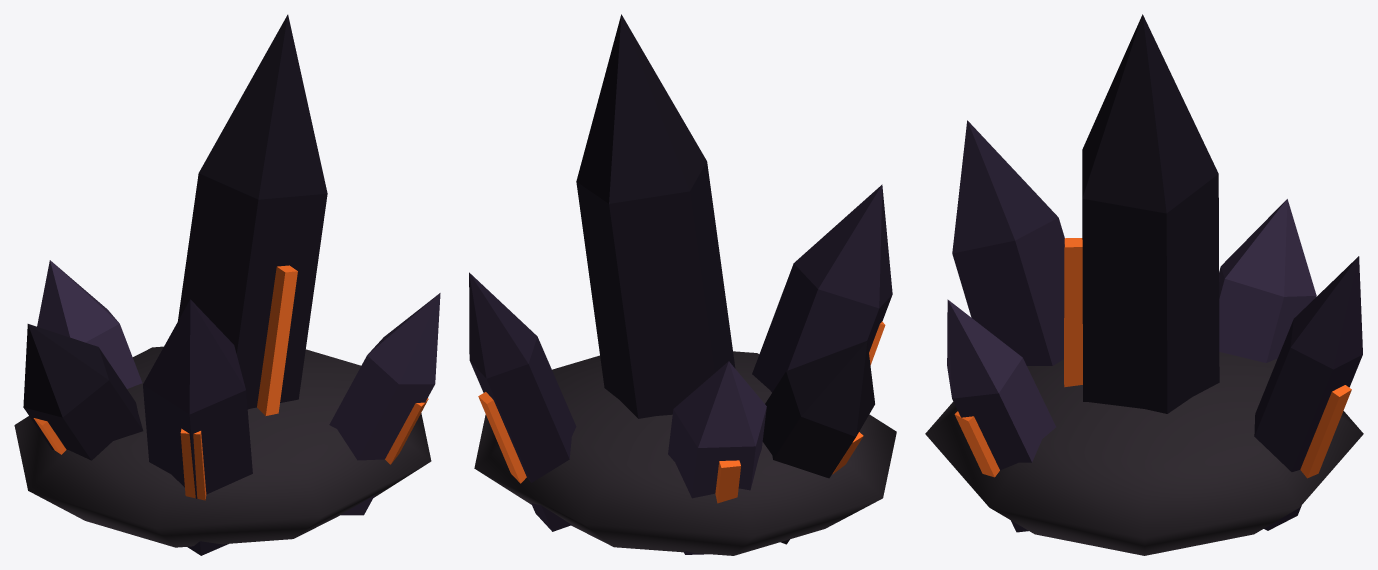
File: ObsidianShards.fbx
The picture shows the model from 3 angles, left to right: view 1: azimuth 30°, elevation 25°; view 2: azimuth 150°, elevation 25°; view 3: azimuth 270°, elevation 25°; orthographic projection. The views are drawn at different scales.
Parts seen in each view (by area): view 1: Frame, Lava; view 2: Frame, Lava; view 3: Frame, Lava.
Part boxes in pixels (<box>): Frame: <box>14,14,440,555</box>; Lava: <box>33,265,428,500</box>; Frame: <box>469,14,896,555</box>; Lava: <box>478,321,885,503</box>; Frame: <box>925,14,1363,555</box>; Lava: <box>954,238,1351,478</box>.
Bounding box in the file's own units: 3.6 × 4.21 × 3.2.
Materials: 1 (1 with a texture image).
